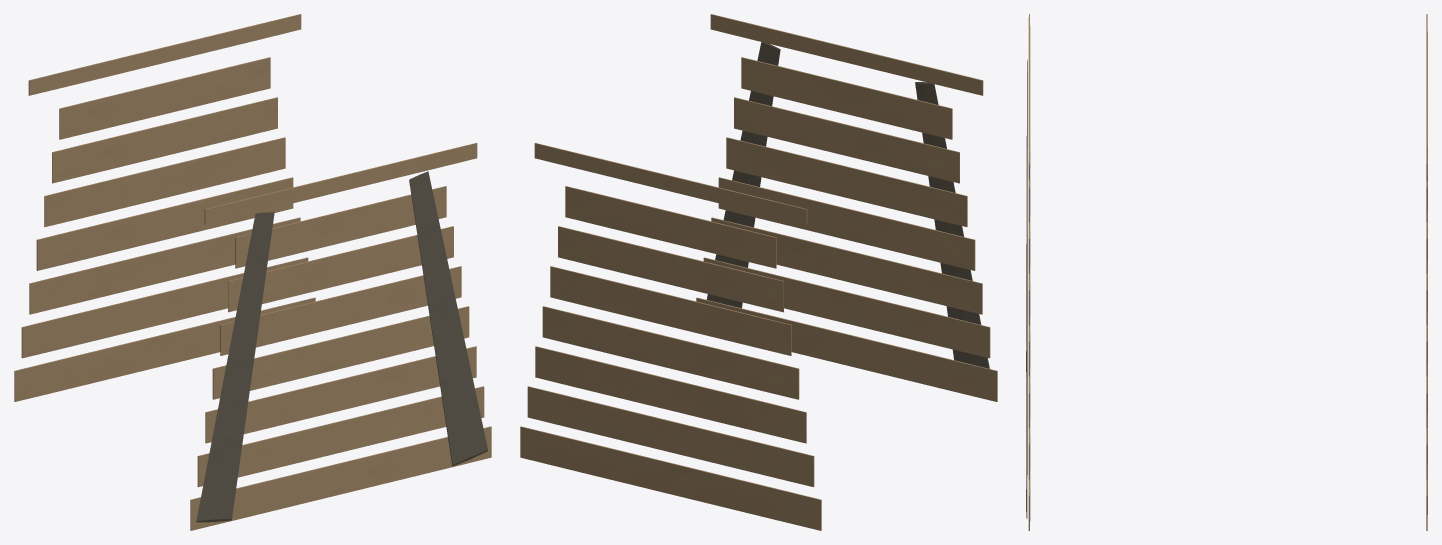
File: siltwake-flood-abutment-1.glb
3 views of the same model, side by side, from view 1: azimuth 30°, elevation 25°; view 2: azimuth 150°, elevation 25°; view 3: azimuth 270°, elevation 25° (orthographic). The views are drawn at different scales.
Visible parts, largest first — view 1: siltwake-flood-abutment_LOD1; view 2: siltwake-flood-abutment_LOD1; view 3: siltwake-flood-abutment_LOD1.
Part boxes in pixels (<box>): siltwake-flood-abutment_LOD1: <box>14,14,491,530</box>; siltwake-flood-abutment_LOD1: <box>520,14,997,530</box>; siltwake-flood-abutment_LOD1: <box>1026,14,1427,530</box>.
Size of the model in its own units: 0.94 by 0.9485 by 0.962.
2 materials, 2 textured.
